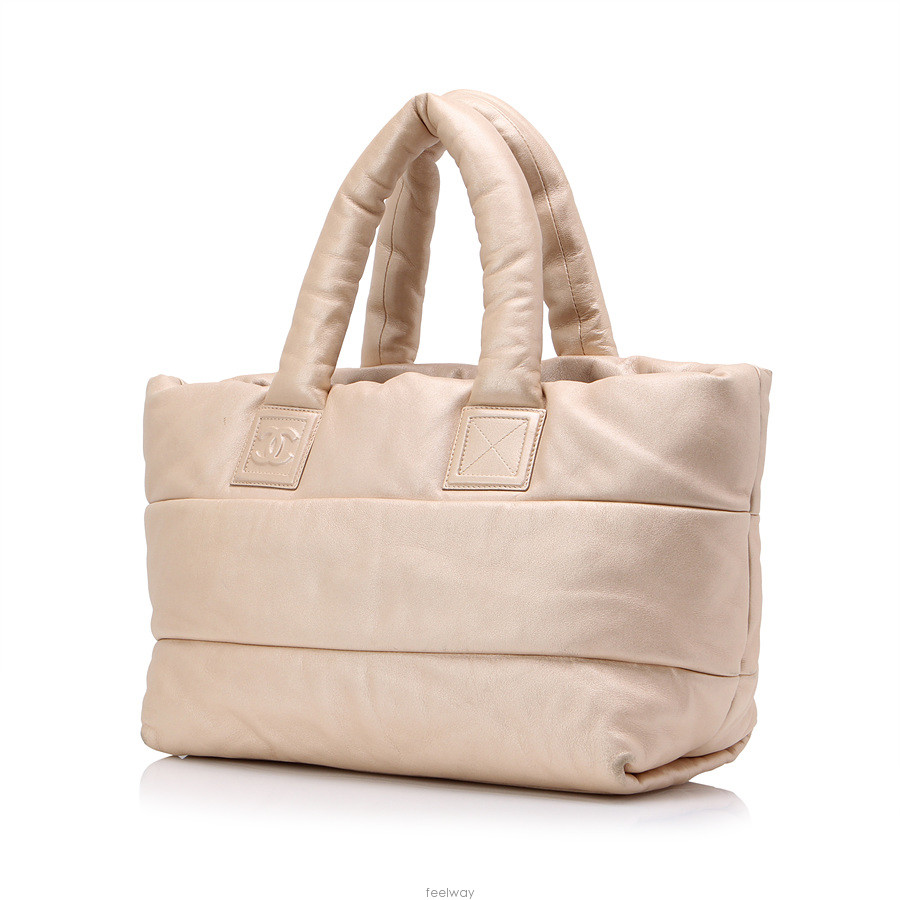channel: (66, 260, 785, 807), (223, 413, 346, 499)
